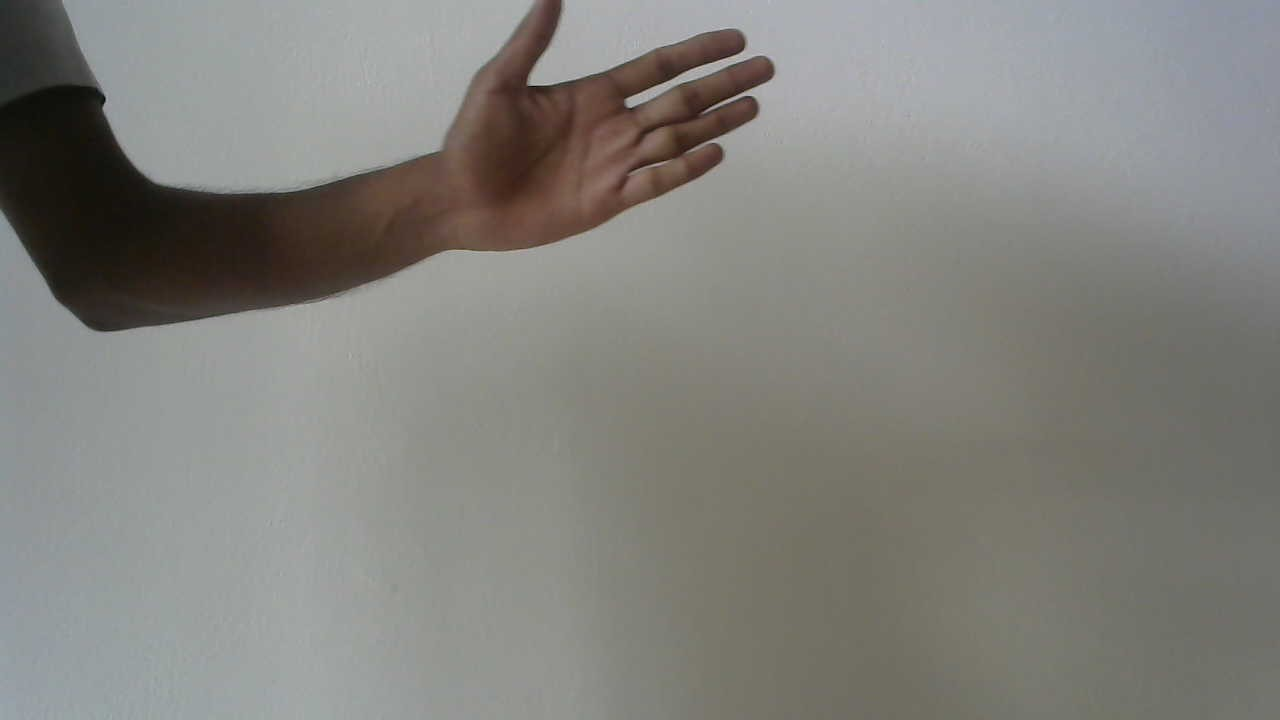hello: (441, 15, 775, 255)
